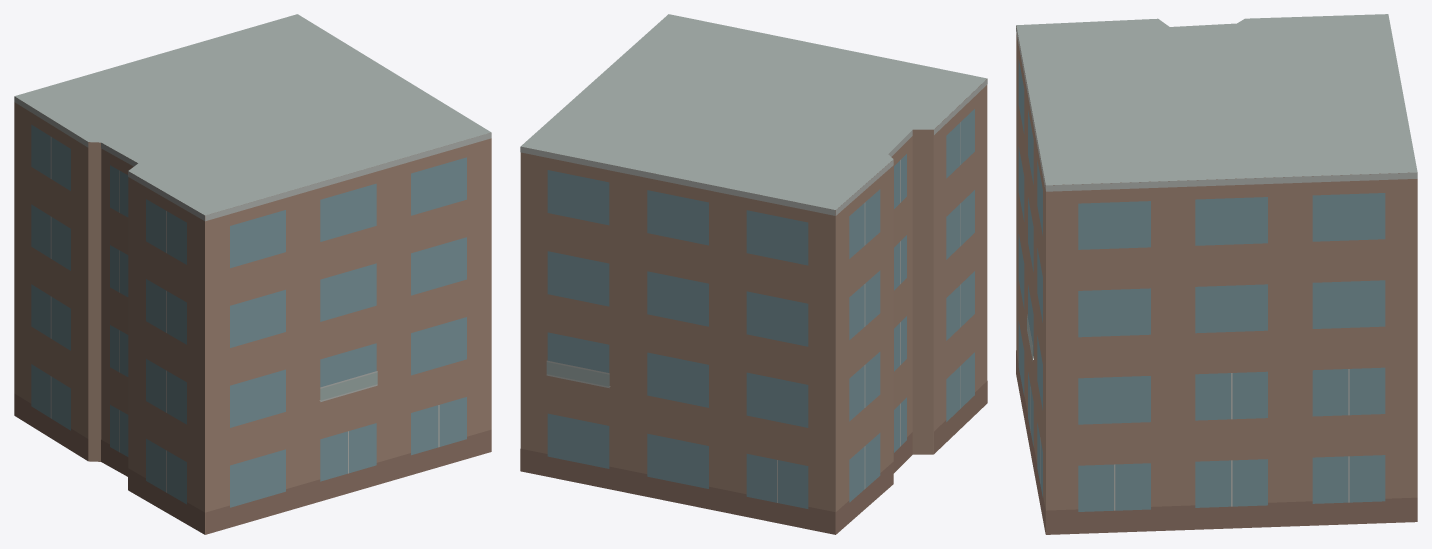
The model's file is survey-upis-32633183.glb.
The picture shows the model from 3 angles, left to right: view 1: azimuth 30°, elevation 25°; view 2: azimuth 150°, elevation 25°; view 3: azimuth 270°, elevation 25°; orthographic projection. The views are drawn at different scales.
Visible parts, largest first — view 1: survey-upis-32633183.tmp; view 2: survey-upis-32633183.tmp; view 3: survey-upis-32633183.tmp.
Part boxes in pixels (<box>): survey-upis-32633183.tmp: <box>14,14,491,534</box>; survey-upis-32633183.tmp: <box>520,14,987,534</box>; survey-upis-32633183.tmp: <box>1016,14,1417,534</box>.
Bounding box in the file's own units: 14.1 × 13.4 × 13.96.
